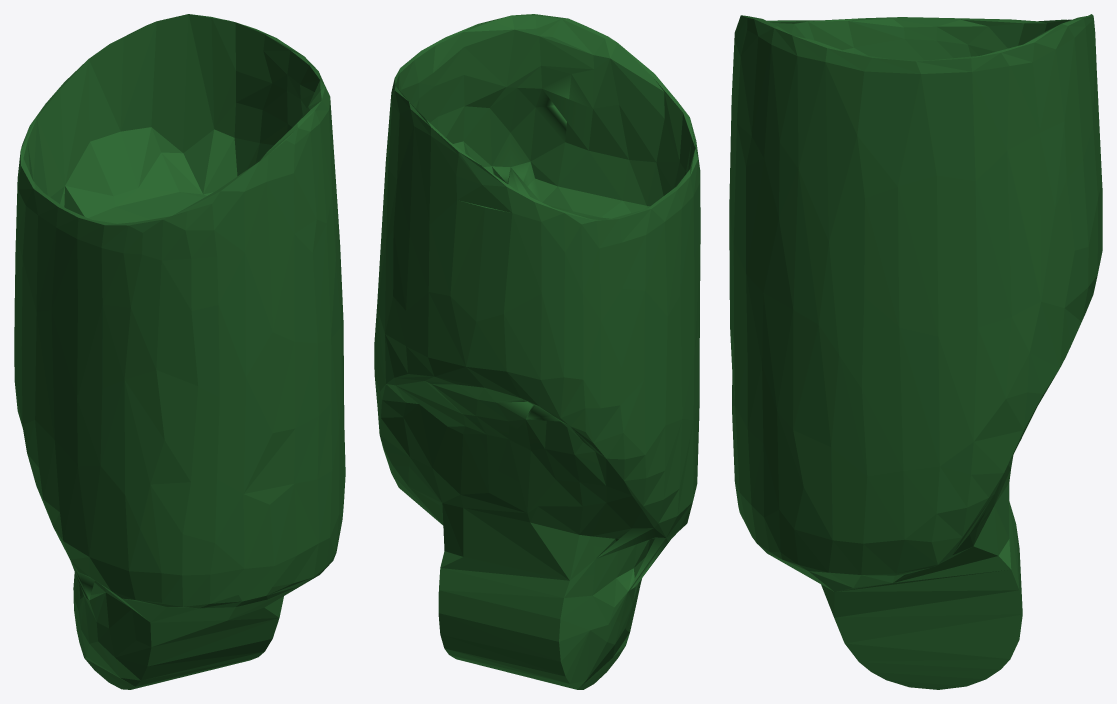
The model's file is sim_sea_2-5_l_thigh_prt.obj.
3 renders of one model, left to right at view 1: azimuth 30°, elevation 25°; view 2: azimuth 150°, elevation 25°; view 3: azimuth 270°, elevation 25°, orthographic. The views are drawn at different scales.
Parts seen in each view (by area): view 1: sim_sea_2-5_l_thigh_prt; view 2: sim_sea_2-5_l_thigh_prt; view 3: sim_sea_2-5_l_thigh_prt.
Boxes of the visible parts, box(x1,y1,x2,y2) form: sim_sea_2-5_l_thigh_prt: box(14, 14, 345, 689); sim_sea_2-5_l_thigh_prt: box(374, 14, 700, 689); sim_sea_2-5_l_thigh_prt: box(729, 14, 1102, 689).
Size of the model in its own units: 113 by 233 by 116.
